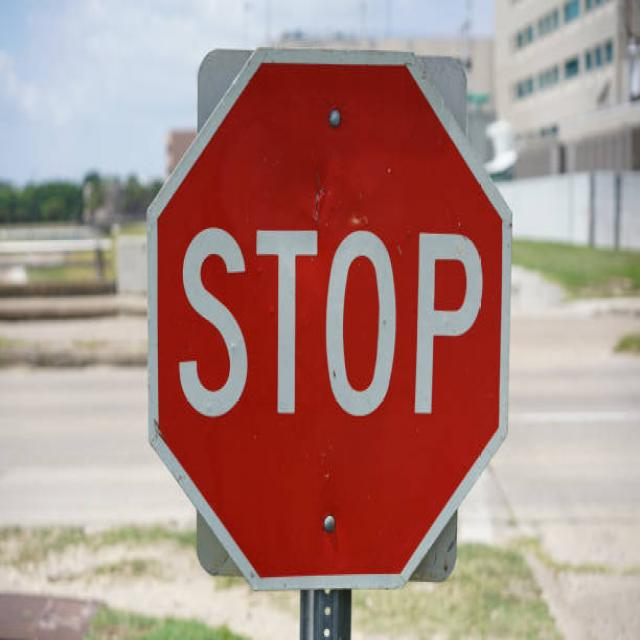stop: (140, 37, 518, 603)
